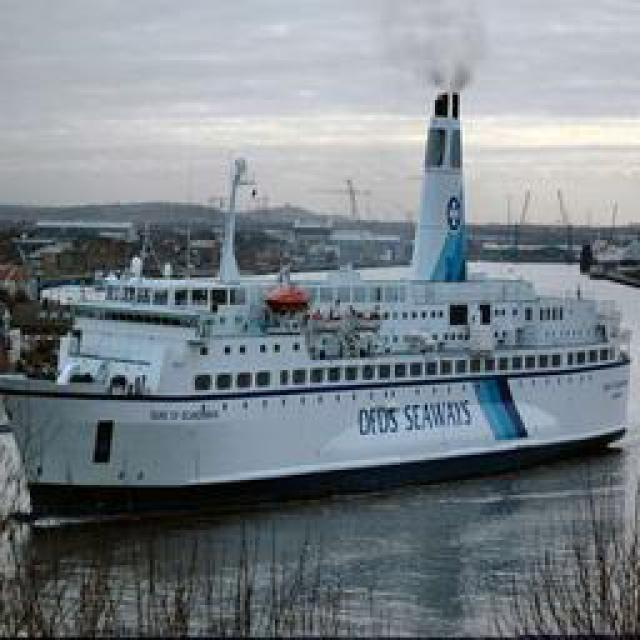Ship: (13, 174, 631, 514)
